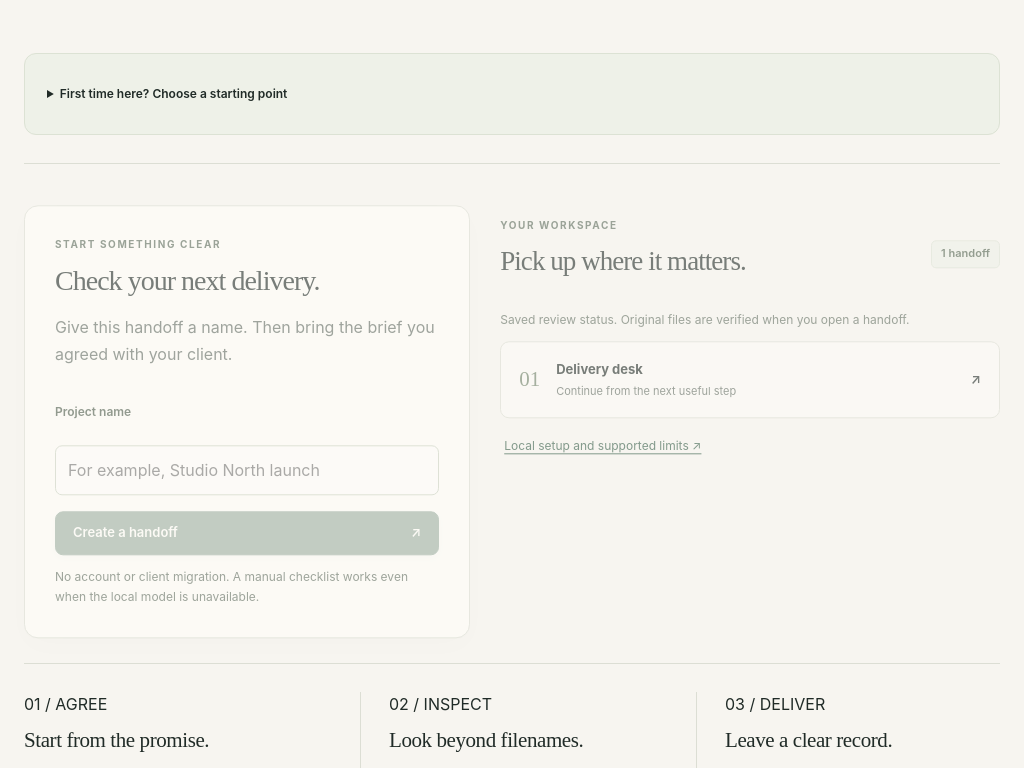
Test case: resumes a saved handoff at the first server attention requirement
(page scrolled)
Click the button with aria-label "Delivery desk ↗" at (600, 364), box [500, 336, 1000, 413]
(page scrolled)
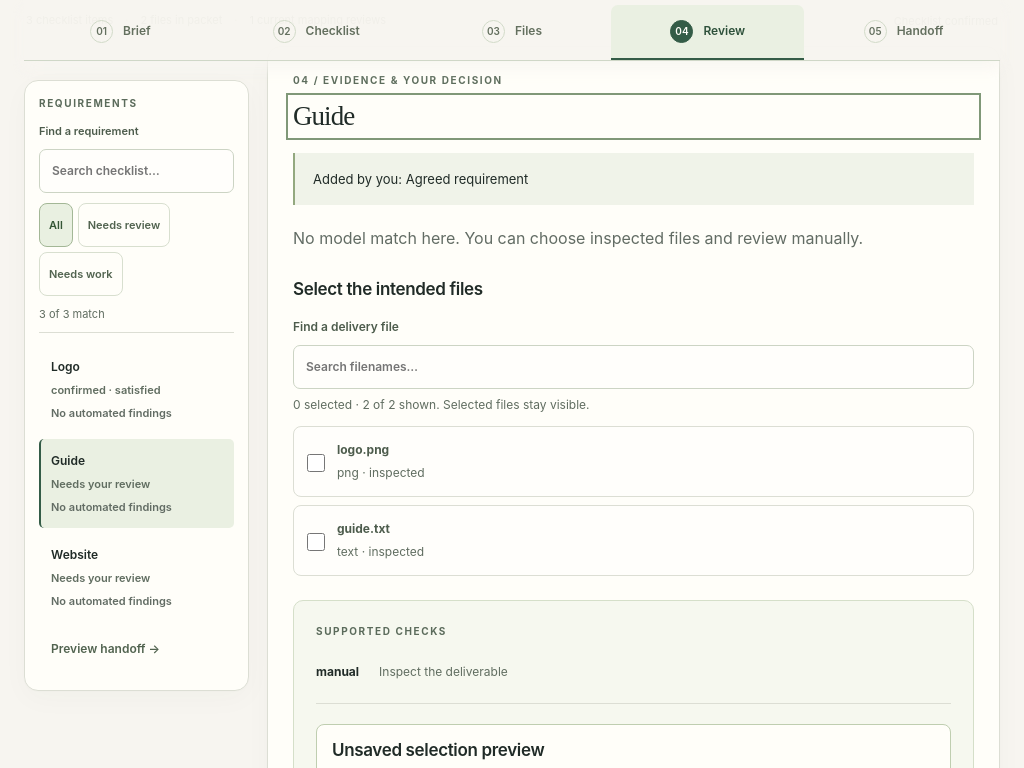
Check: the heading "Guide" is shown, box [293, 101, 354, 131]
